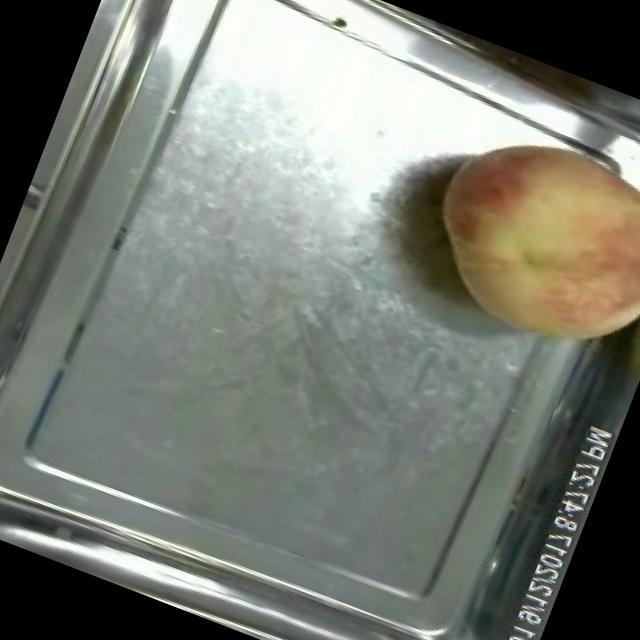Fruit: (392, 93, 640, 389)
